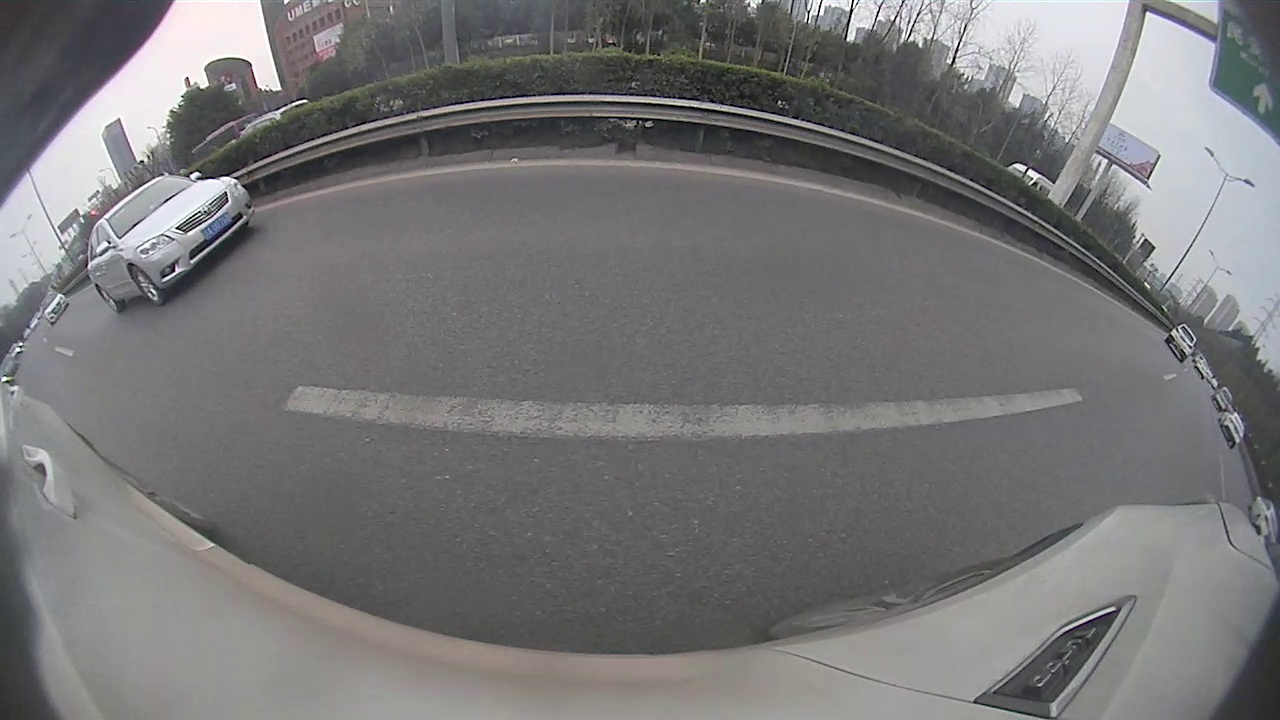car: (85, 172, 252, 315), (1169, 321, 1198, 363)
front: (128, 263, 167, 306)
